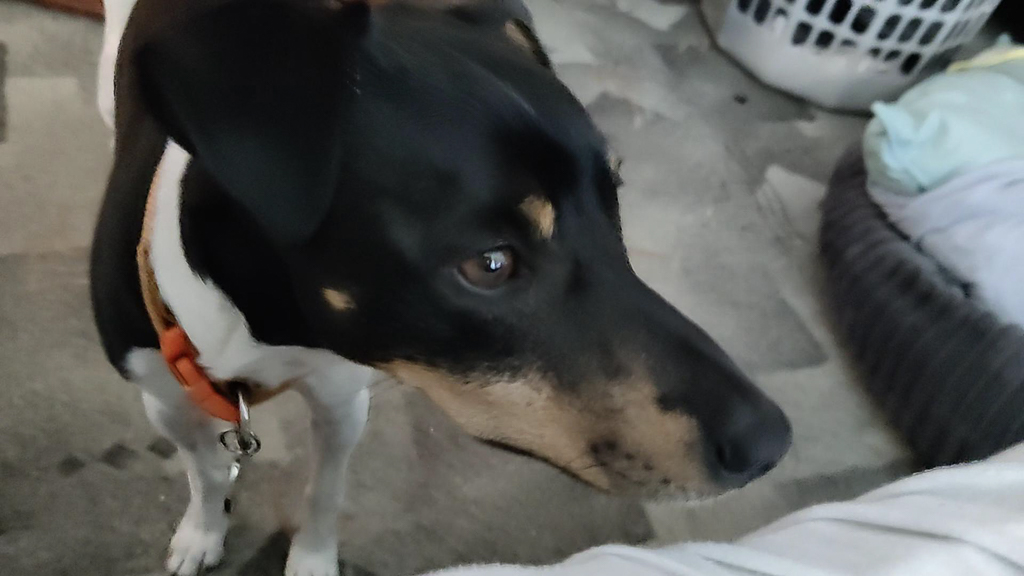Dog: (79, 0, 806, 576)
